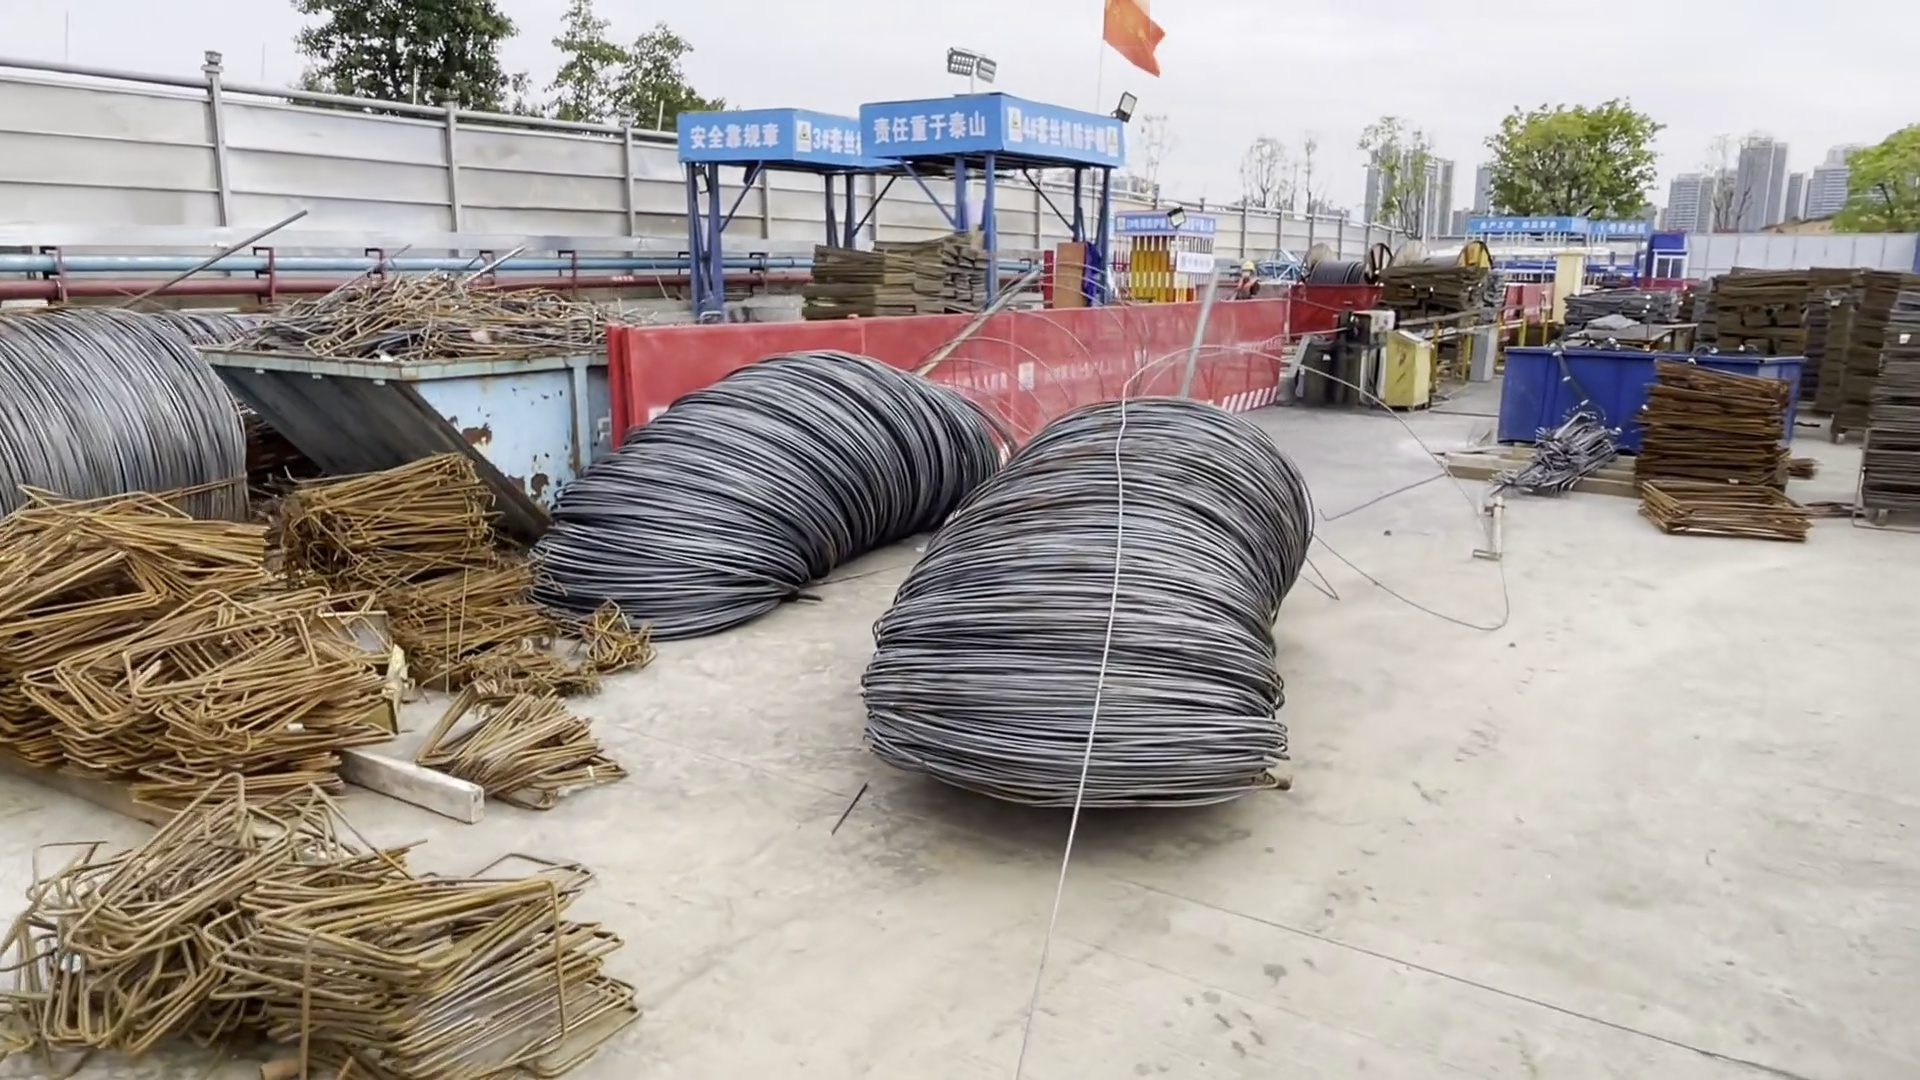ebox: (1551, 252, 1578, 322)
fence: (617, 296, 1286, 424)
helmet: (1240, 262, 1251, 273)
hopper: (216, 311, 612, 529), (1483, 338, 1796, 459)
person: (1237, 260, 1255, 297)
rebar: (1500, 428, 1612, 490)
slogan: (867, 105, 1116, 164), (681, 108, 858, 156), (1474, 216, 1642, 236), (1113, 214, 1210, 234)
vest: (1238, 280, 1252, 296)
